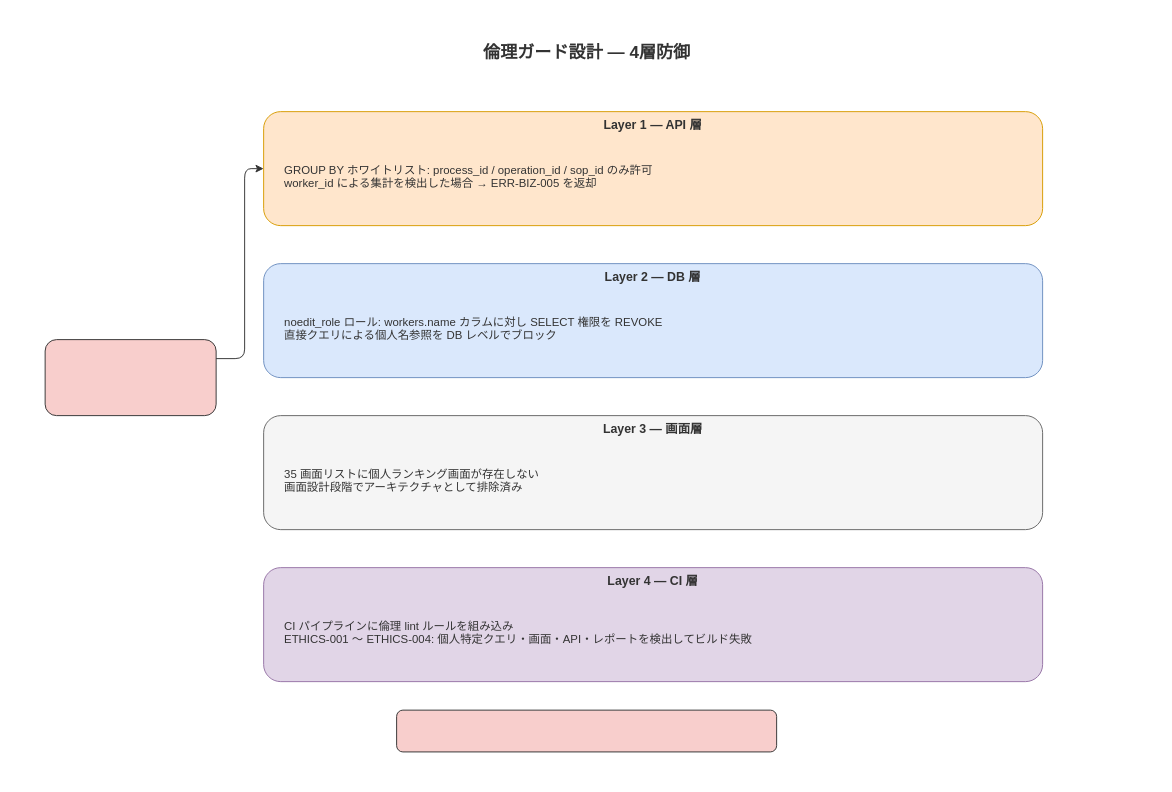
This 1172x792 diagram has some shape labels left out. The box of each missing label's shape, as (x1, y1, x2, y2) in pixels:
BR-BUS-029 違反リスク 個人別ランキング: (44, 339, 216, 416)
BR-BUS-029: 個人別ランキング完全排除: (396, 709, 777, 752)
